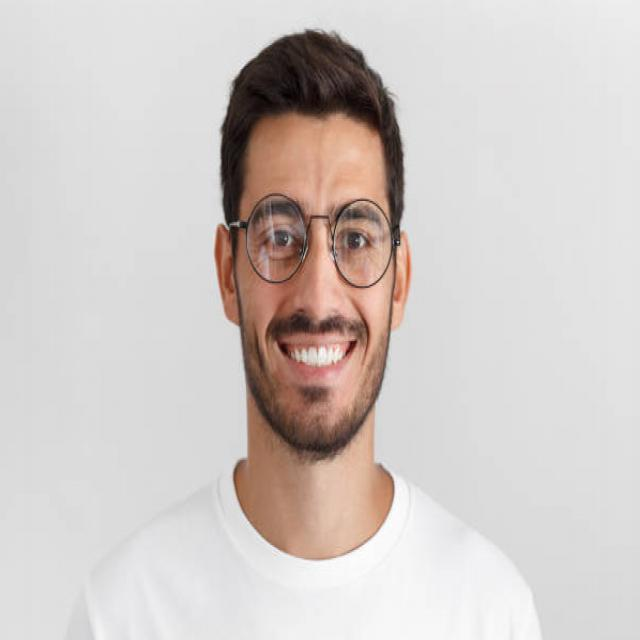Glasses: (231, 188, 401, 293)
